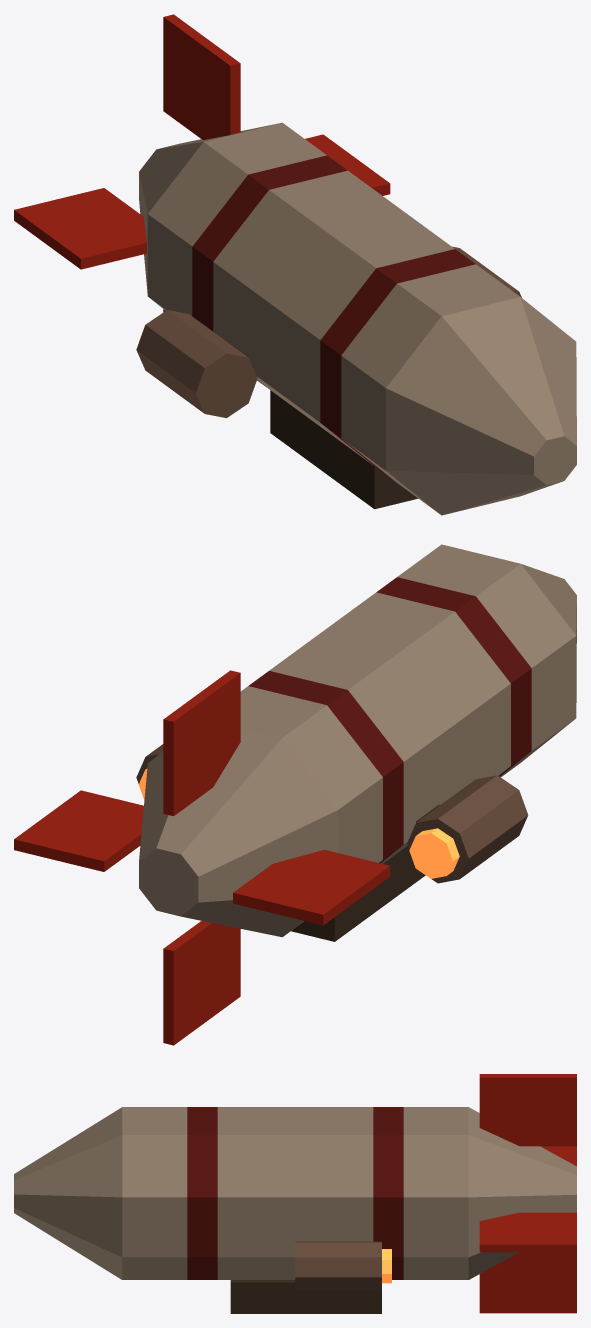
The model's file is airship.glb.
The picture shows the model from 3 angles, top to bottom: view 1: azimuth 30°, elevation 25°; view 2: azimuth 150°, elevation 25°; view 3: azimuth 270°, elevation 25°; orthographic projection. The views are drawn at different scales.
Visible parts, largest first — view 1: Nose, Sec3, Sec1, Sec5, Pod11, Fin6, Fin9, Sec2, Sec4, Gondola10, Tail, Fin8; view 2: Sec3, Tail, Sec1, Sec5, Fin6, Fin7, Fin9, Fin8, Pod11, Sec2, Sec4, Gondola10 (+2 smaller); view 3: Sec3, Nose, Sec1, Sec5, Tail, Fin6, Fin7, Sec2, Sec4, Pod14, Gondola10, Fin8 (+2 smaller).
Boxes of the visible parts, box(x1,y1,x2,y2) form: Nose: box(386, 297, 576, 515); Sec3: box(213, 170, 454, 465); Sec1: box(341, 264, 519, 512); Sec5: box(147, 122, 326, 315); Pod11: box(136, 310, 257, 418); Fin6: box(163, 14, 240, 139); Fin9: box(14, 188, 146, 269); Sec2: box(320, 249, 475, 480); Sec4: box(192, 155, 347, 387); Gondola10: box(270, 390, 417, 509); Tail: box(139, 123, 278, 292); Fin8: box(305, 134, 390, 195); Sec3: box(269, 592, 510, 863); Tail: box(139, 728, 338, 937); Sec1: box(397, 544, 576, 777); Sec5: box(240, 686, 382, 935); Fin6: box(163, 670, 240, 816); Fin7: box(163, 921, 240, 1045); Fin9: box(233, 849, 390, 925); Fin8: box(14, 790, 143, 871); Pod11: box(407, 775, 528, 883); Sec2: box(376, 577, 531, 776); Sec4: box(249, 671, 403, 863); Gondola10: box(291, 846, 425, 941); Sec3: box(217, 1107, 373, 1279); Nose: box(14, 1107, 122, 1279); Sec1: box(122, 1107, 187, 1279); Sec5: box(403, 1107, 468, 1279); Tail: box(468, 1107, 576, 1279); Fin6: box(479, 1074, 576, 1146); Fin7: box(479, 1252, 576, 1313); Sec2: box(187, 1107, 217, 1279); Sec4: box(373, 1107, 403, 1279); Pod14: box(295, 1241, 381, 1290); Gondola10: box(230, 1280, 381, 1313); Fin8: box(479, 1212, 576, 1252).
Bounding box in the file's own units: 2.58 × 2.4 × 5.2.
